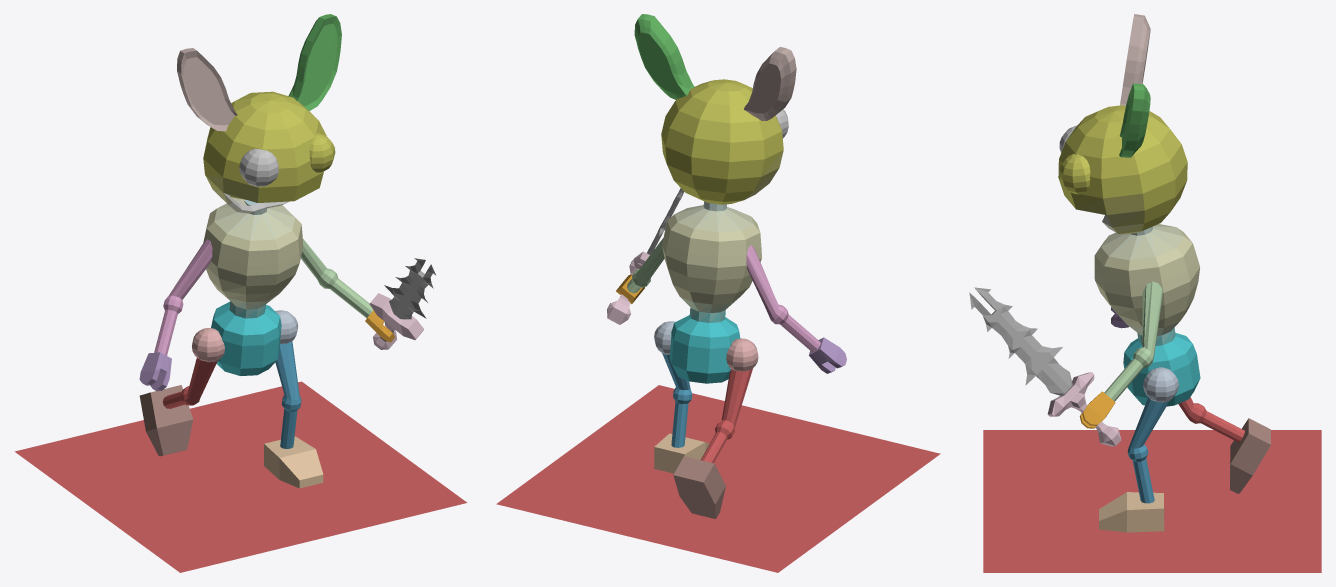
The picture shows the model from 3 angles, left to right: view 1: azimuth 30°, elevation 25°; view 2: azimuth 150°, elevation 25°; view 3: azimuth 270°, elevation 25°; orthographic projection. The views are drawn at different scales.
Visible parts, largest first — view 1: world; view 2: world; view 3: world.
Boxes of the visible parts, bbox=[...] form: world: bbox=[14, 14, 467, 572]; world: bbox=[496, 14, 940, 572]; world: bbox=[969, 14, 1321, 572].
Size of the model in its own units: 1.21 by 1.8 by 1.26.
